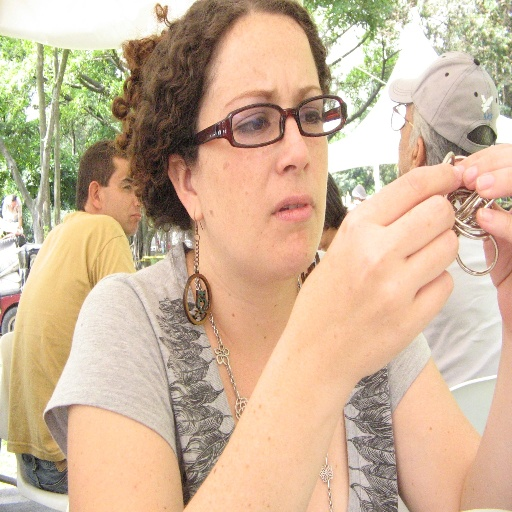hand: (270, 133, 478, 396), (455, 144, 511, 333)
